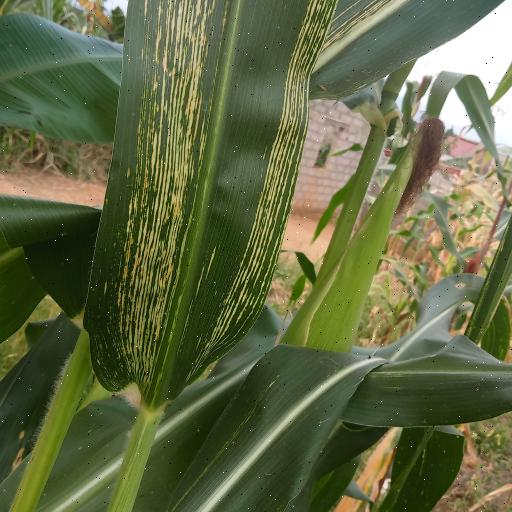Corn_Streak: (83, 0, 335, 405)
